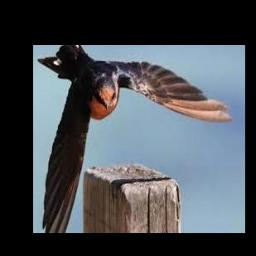Swallow: (37, 45, 232, 233)
